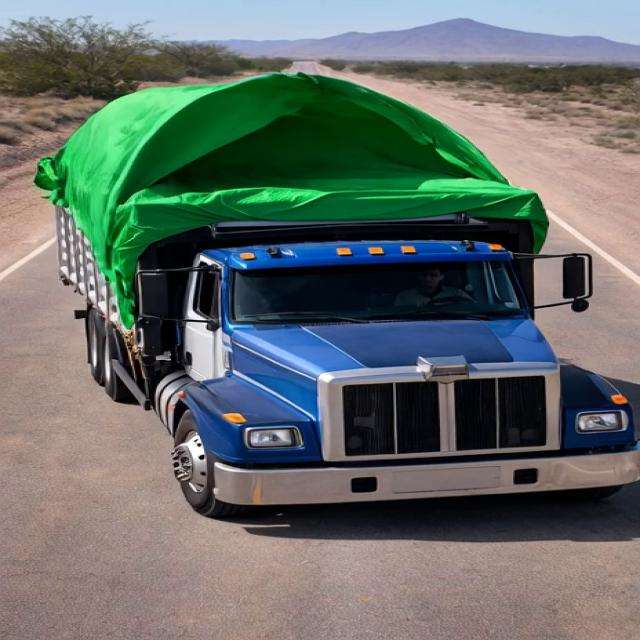trailer: (46, 74, 535, 228)
truck: (27, 69, 640, 533)
